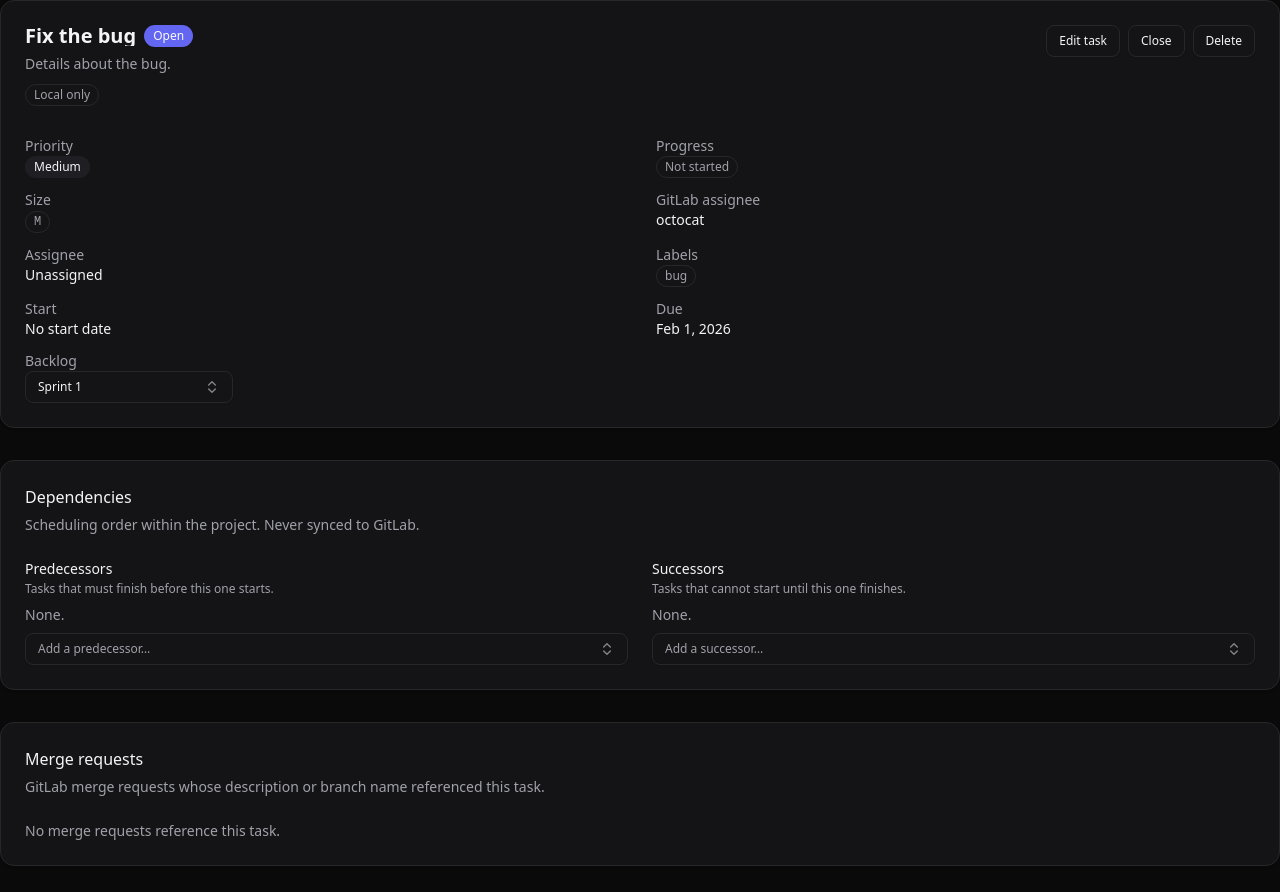
it: TaskDetail › edits the task in place and shows the saved values
Click the button "Edit task" at (1083, 41), box [1046, 25, 1120, 57]
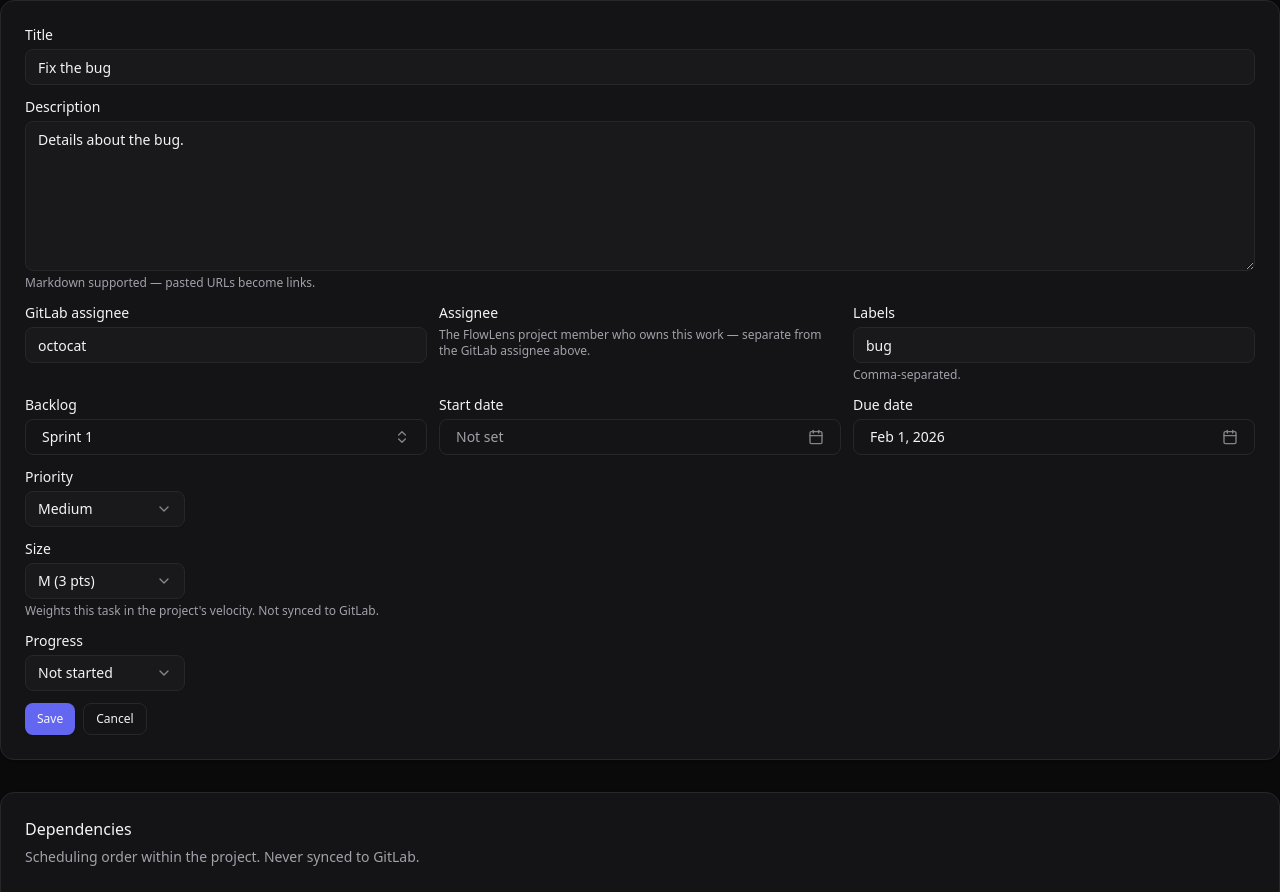
Replace the text in the field labelled "Title" with "Fix the bug properly" at (640, 67), box [25, 49, 1255, 85]
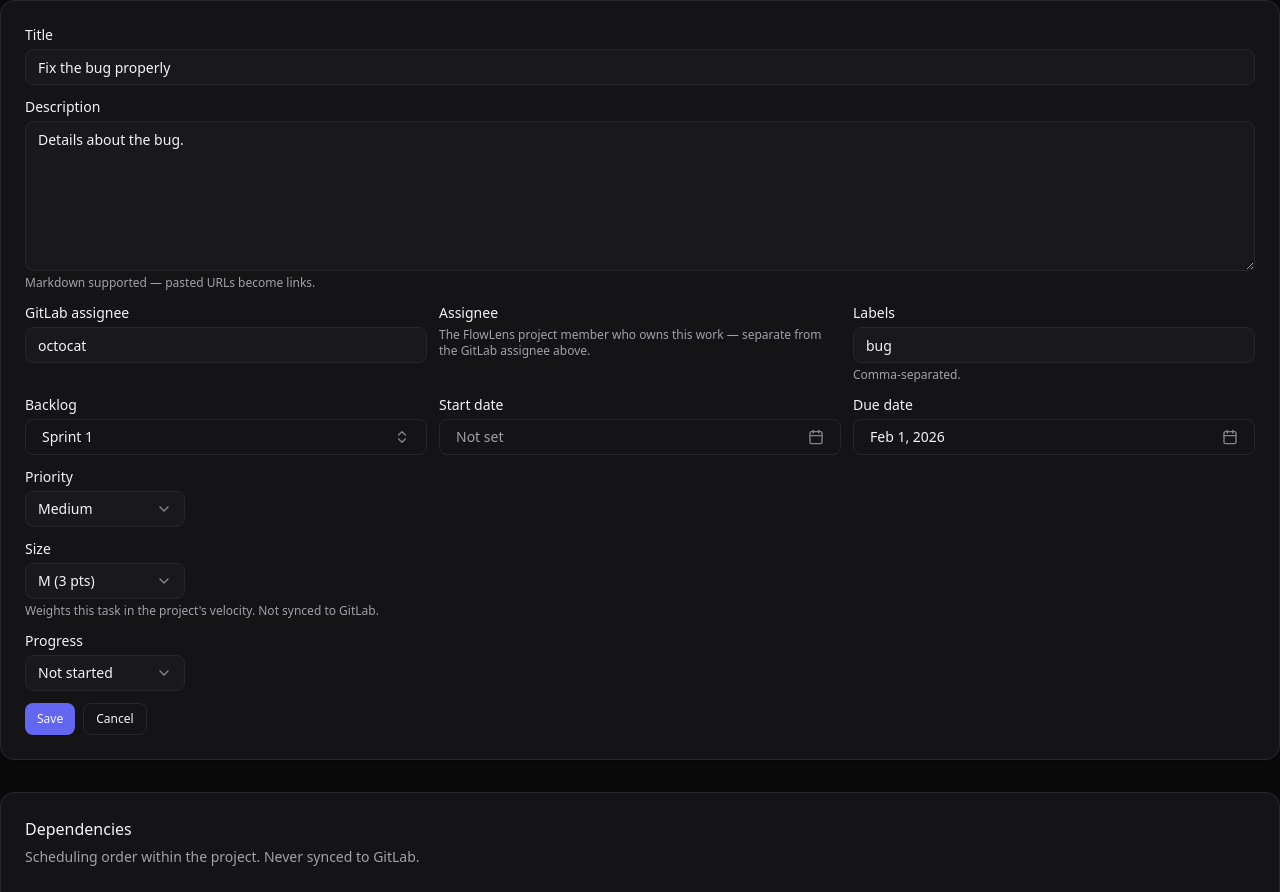
Replace the text in the field labelled "Labels" with "bug, urgent" at (1054, 345), box [853, 327, 1255, 363]
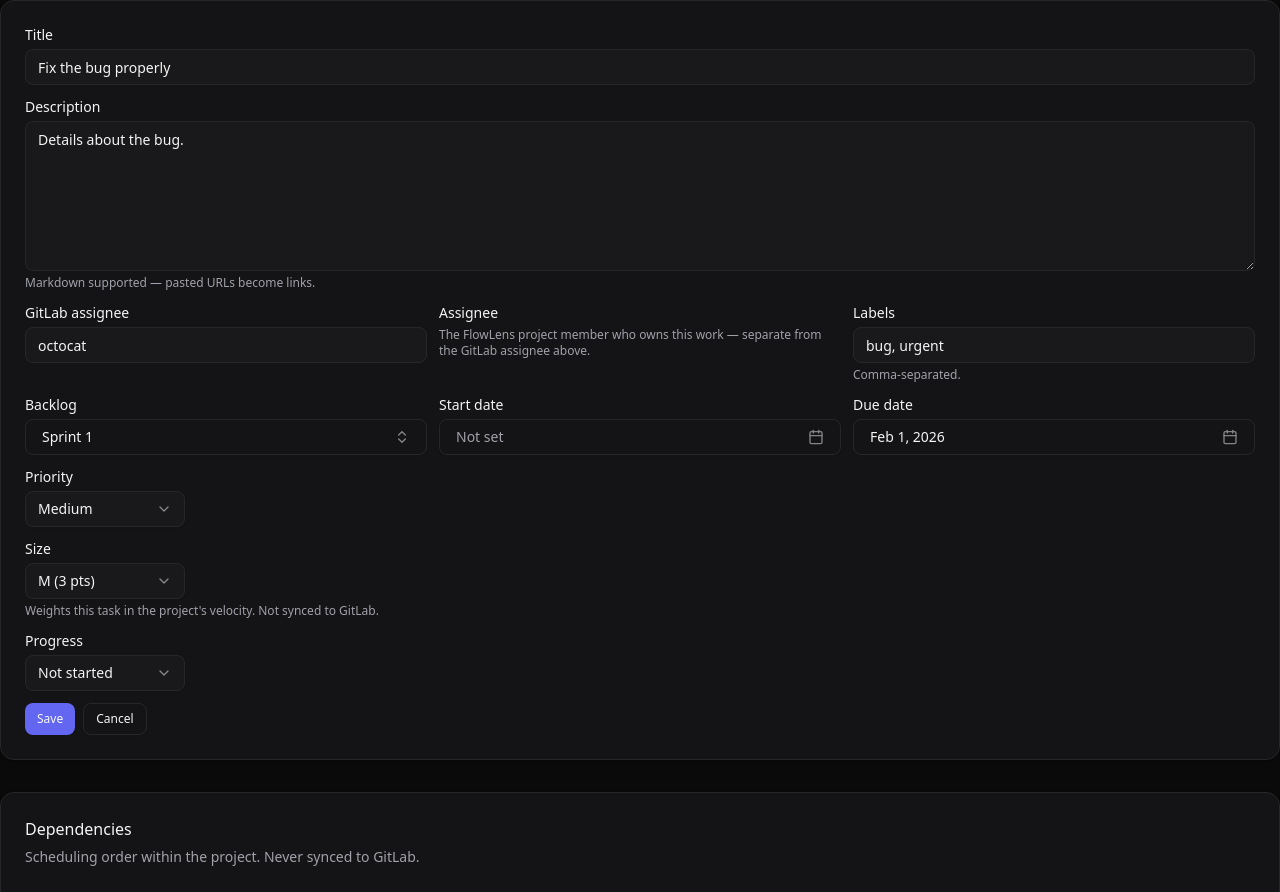
Click the button "Save" at (50, 719), box [25, 703, 75, 735]
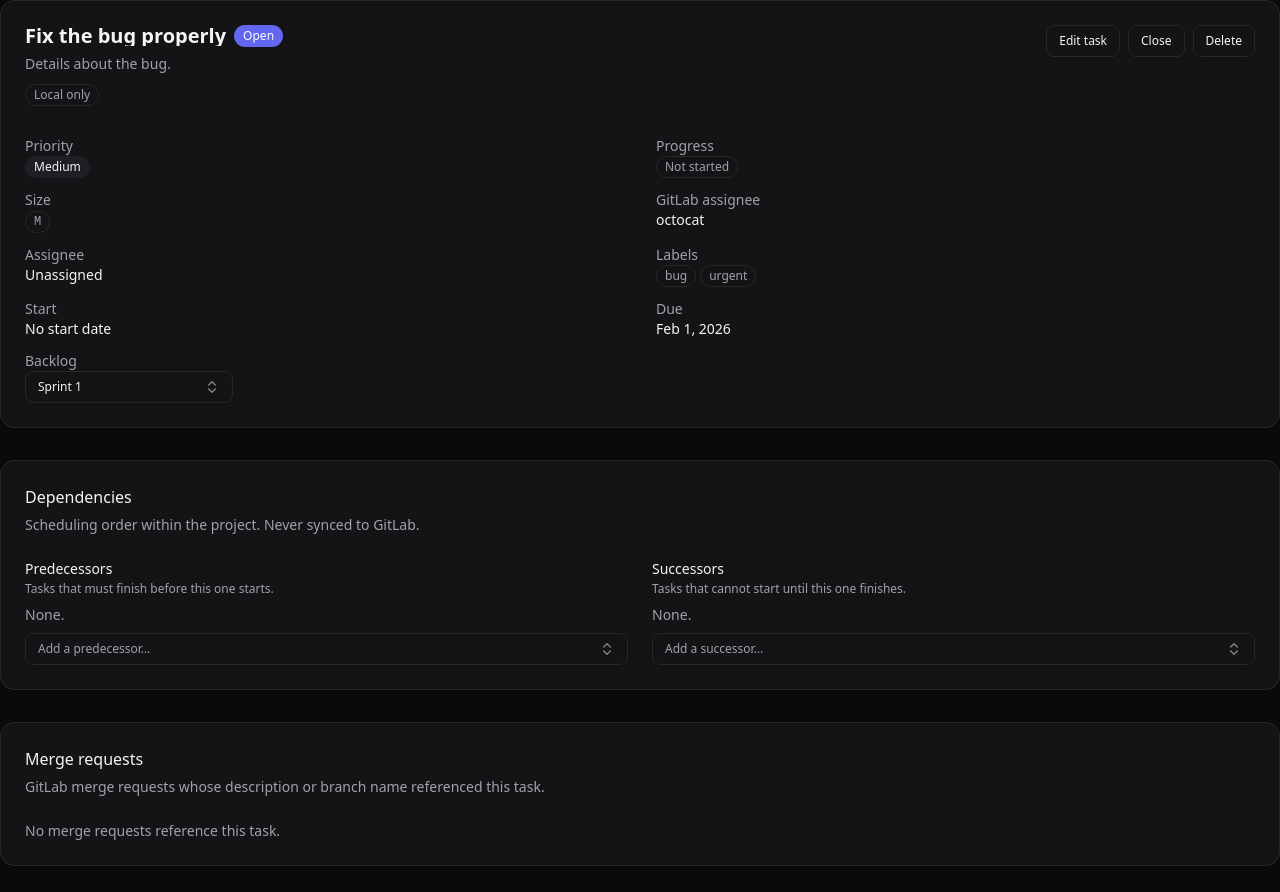
Expected: the heading "Fix the bug properly" is shown, [25, 26, 226, 46]
Expected: the text "urgent" is shown, [700, 265, 756, 287]
